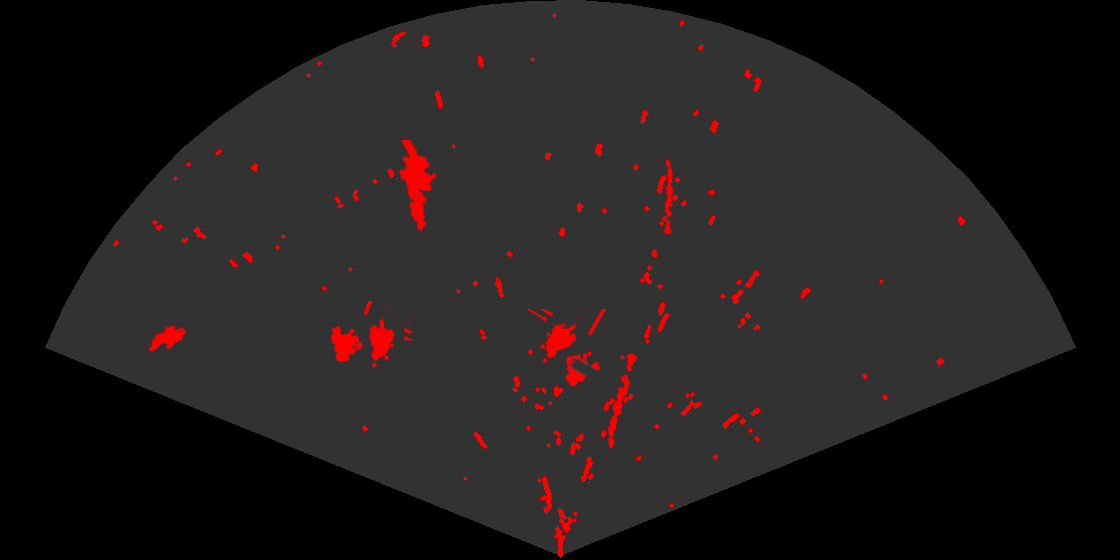AUV: (147, 324, 188, 353)
cage: (525, 309, 608, 388), (329, 301, 412, 369)
chain: (606, 351, 639, 450), (662, 157, 675, 235)
frogman: (398, 140, 438, 232)
